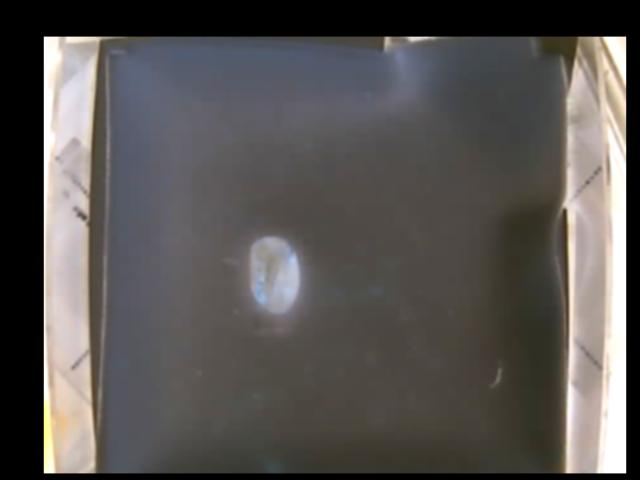Pebble: (249, 237, 298, 314)
